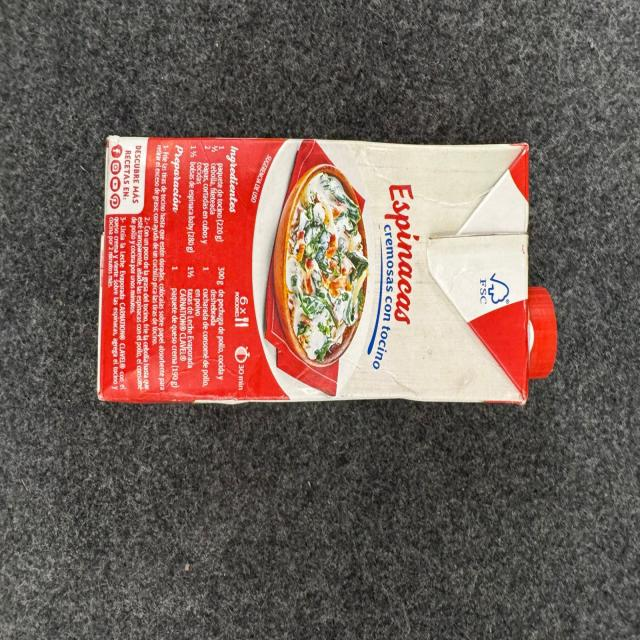CARNATION Leche Evaporada 720g: (94, 131, 560, 403)
